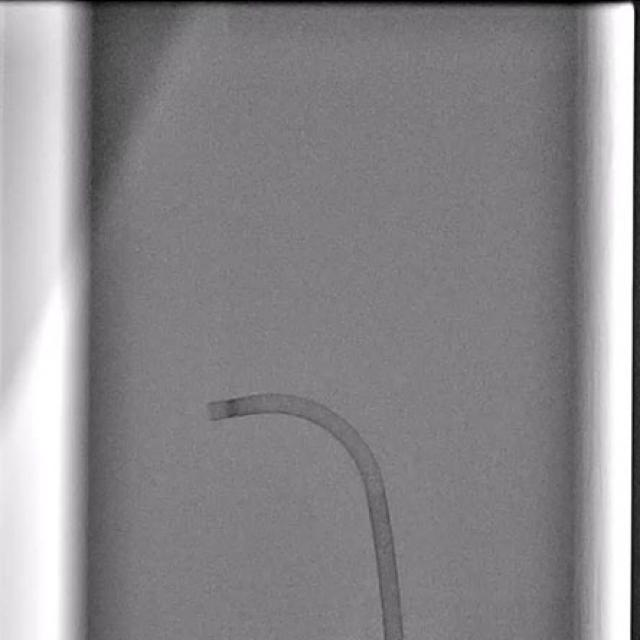bend: (364, 478, 386, 494)
entry: (384, 635, 404, 640)
marker: (224, 398, 240, 418)
tip: (207, 402, 216, 420)
